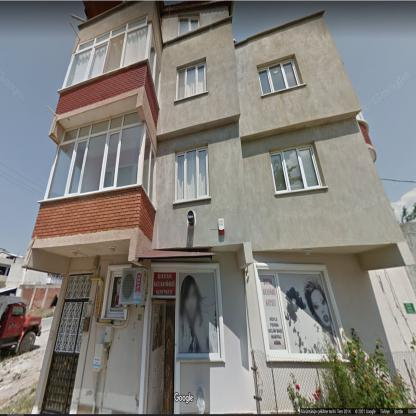door: (42, 273, 92, 413), (144, 299, 176, 413)
window: (44, 110, 156, 203), (62, 15, 161, 100), (270, 145, 322, 192), (176, 146, 209, 200), (258, 58, 300, 93), (176, 64, 206, 98), (110, 274, 124, 313), (178, 16, 200, 34)
